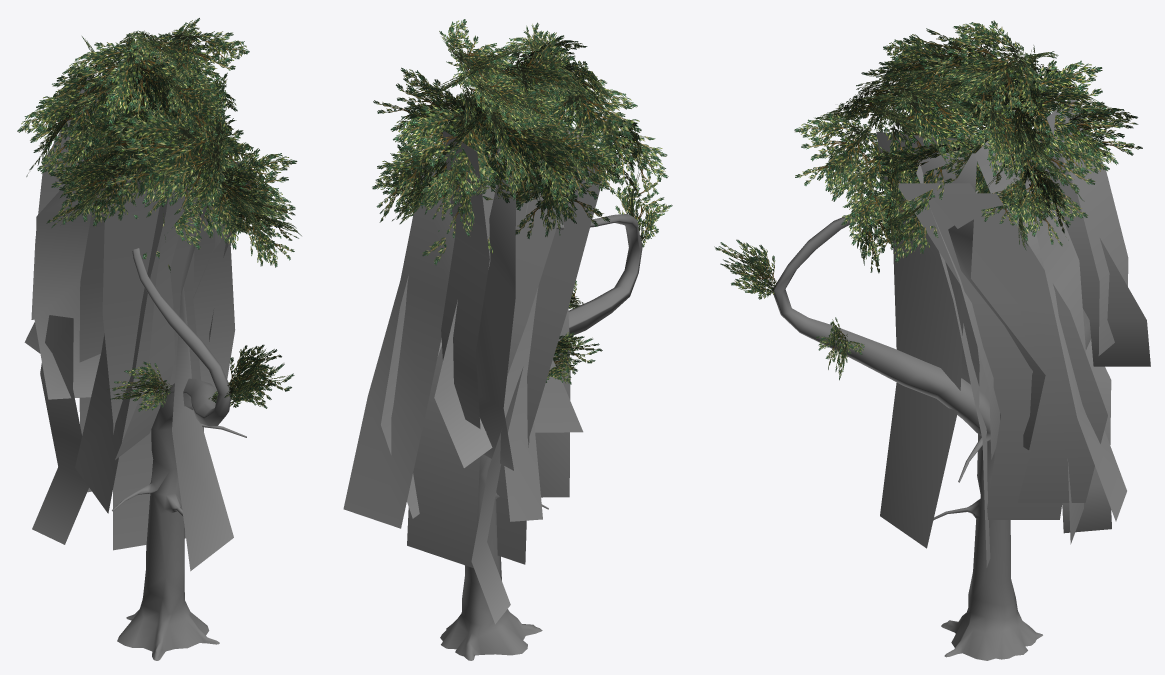
File: siraptree_lod0.fbx
3 views of the same model, side by side, from view 1: azimuth 30°, elevation 25°; view 2: azimuth 150°, elevation 25°; view 3: azimuth 270°, elevation 25° (orthographic).
Parts seen in each view (by area): view 1: Default_Layer; view 2: Default_Layer; view 3: Default_Layer.
Part boxes in pixels (x1,y1,x2,y2): Default_Layer: (17, 18, 301, 660); Default_Layer: (343, 19, 672, 660); Default_Layer: (714, 20, 1150, 660).
Size of the model in its own units: 499 by 1156 by 767.
